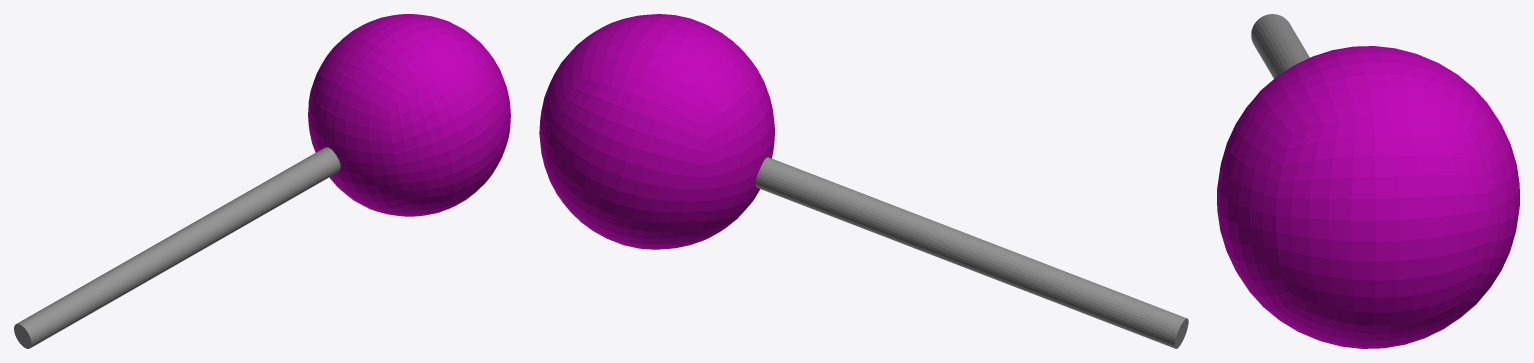
Rendered from stecknadel Mexiko.glb.
3 renders of one model, left to right at view 1: azimuth 30°, elevation 25°; view 2: azimuth 150°, elevation 25°; view 3: azimuth 270°, elevation 25°, orthographic. The views are drawn at different scales.
Visible parts, largest first — view 1: Zylinder; view 2: Zylinder; view 3: Zylinder.
Part boxes in pixels (box(x1,y1,x2,y2)): Zylinder: box(14, 14, 510, 348); Zylinder: box(539, 14, 1188, 348); Zylinder: box(1217, 14, 1519, 348).
Bounding box in the file's own units: 0.2634 × 0.0985 × 0.0907.
